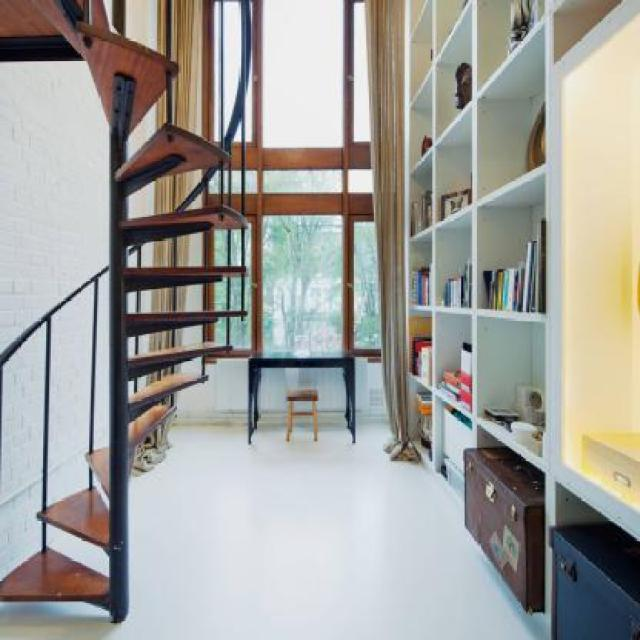stair: (2, 0, 250, 628)
